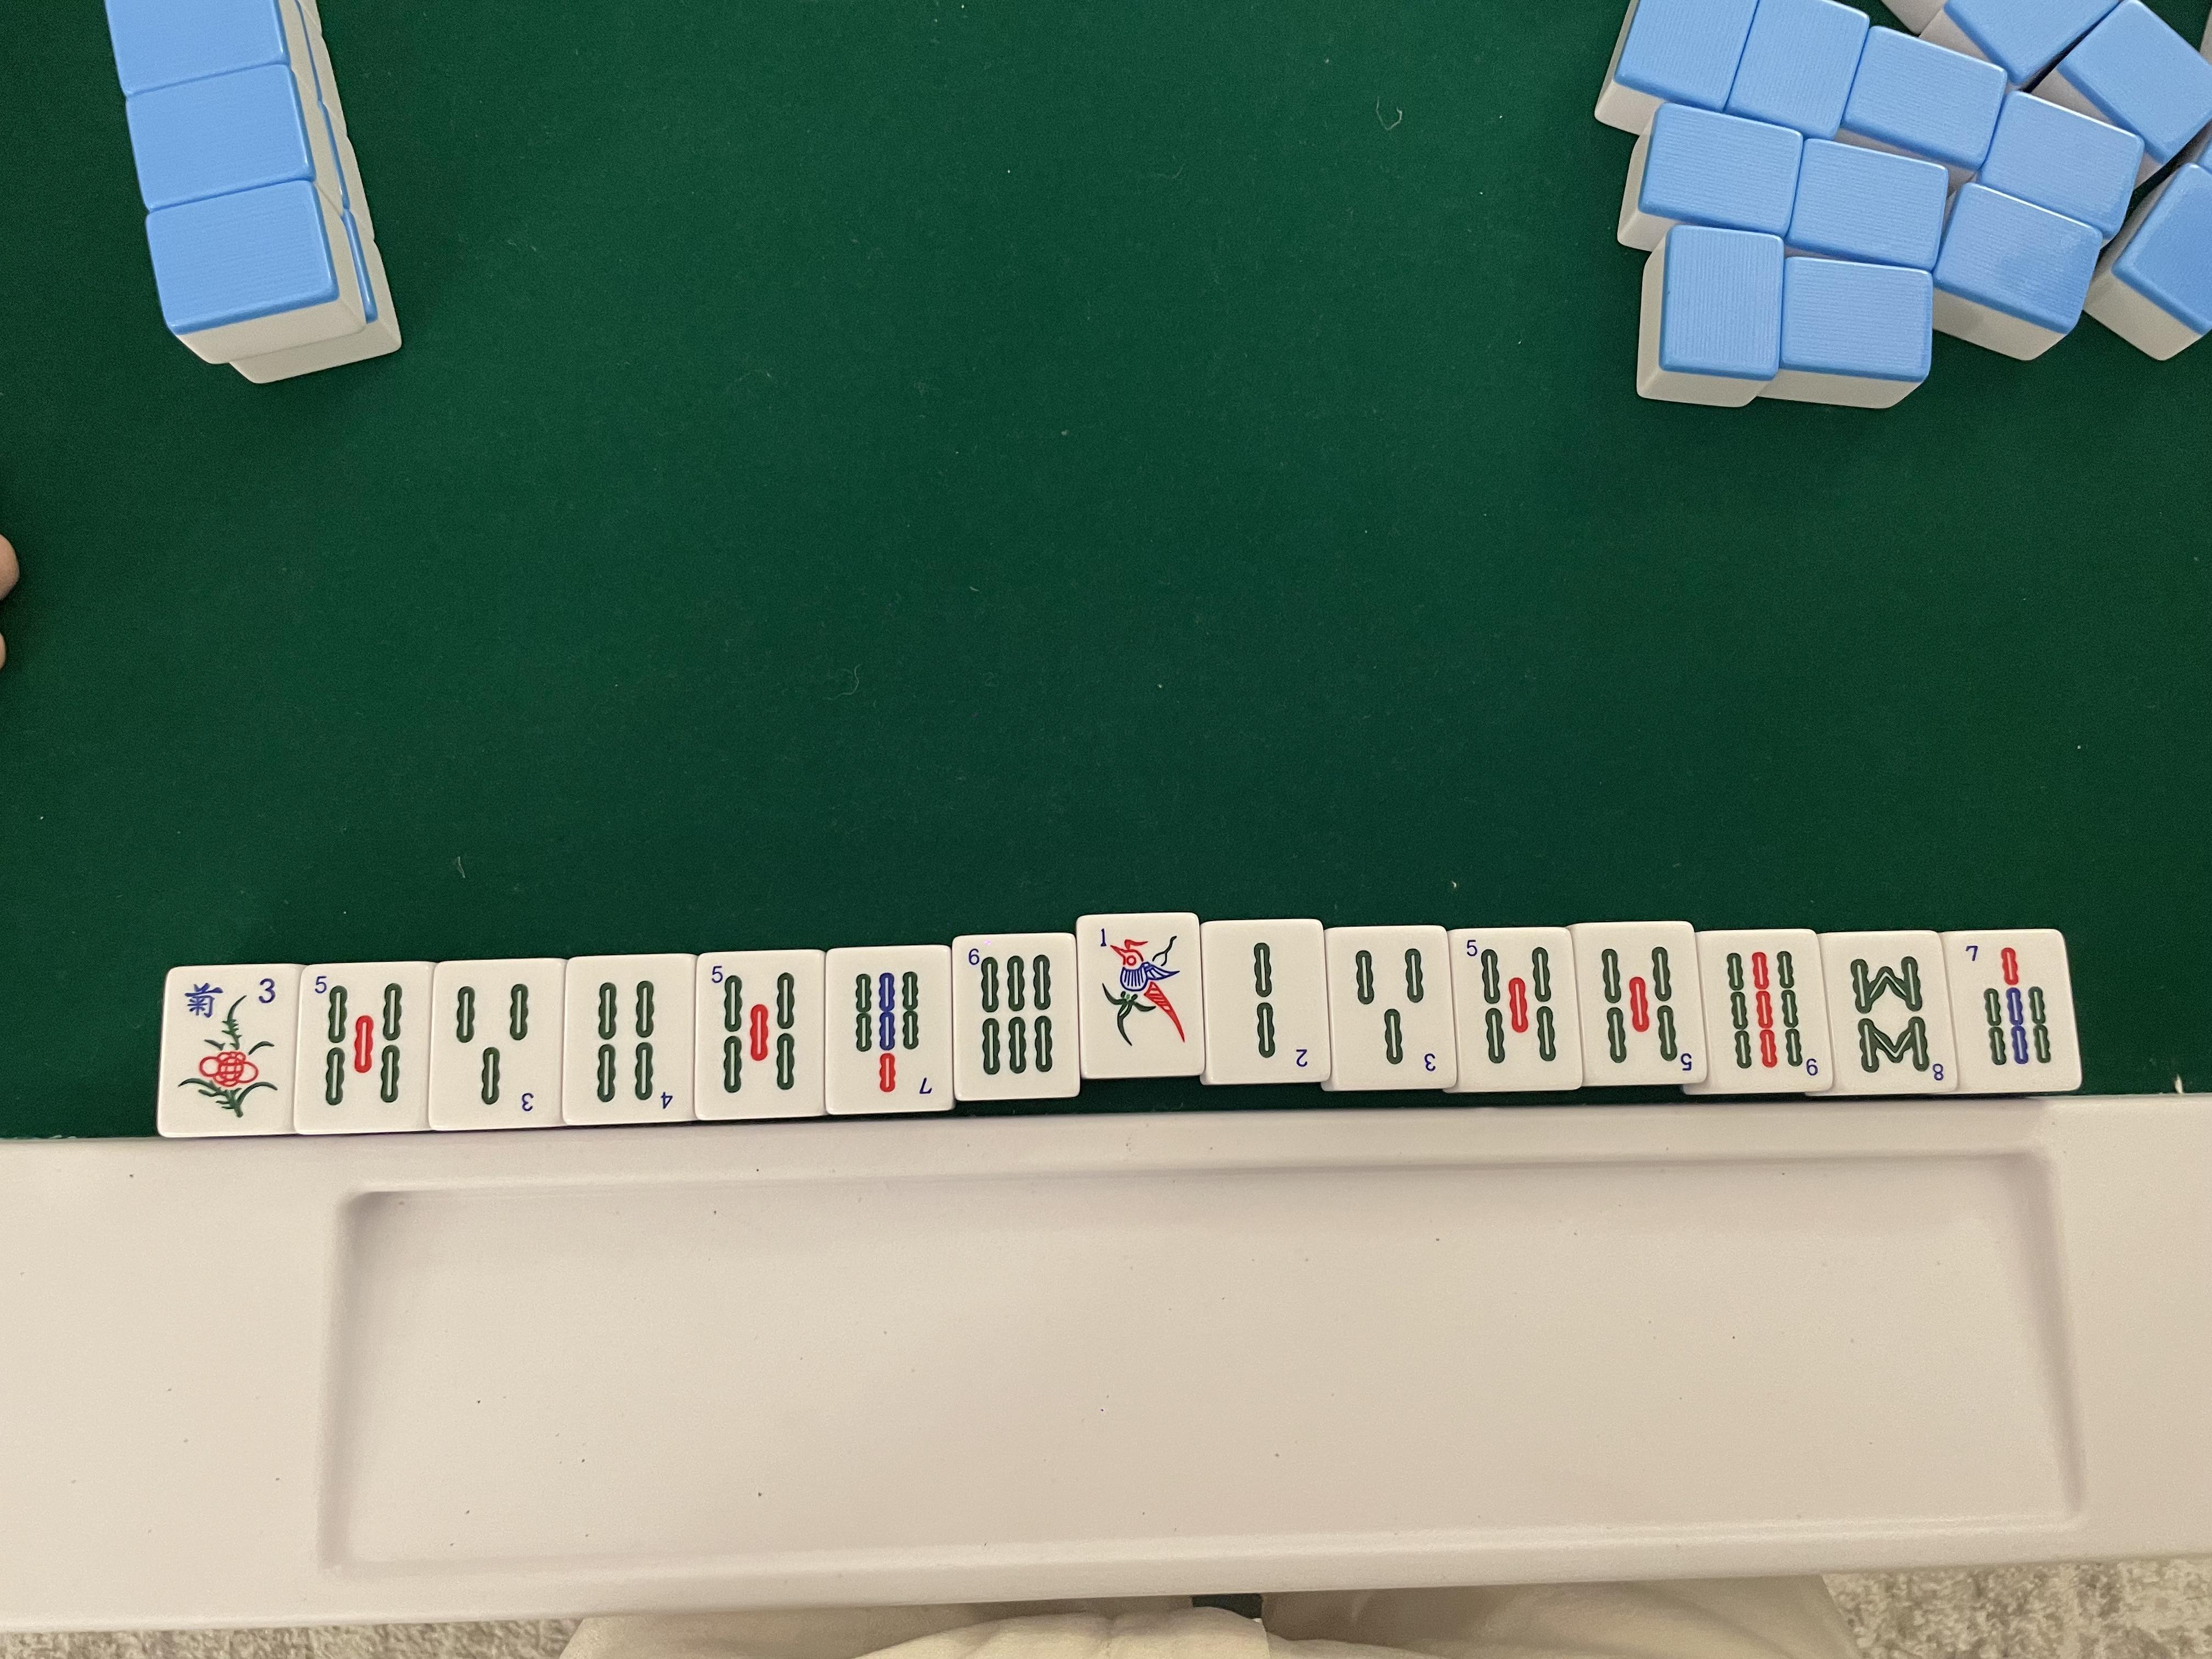bamboo-eight: (1838, 941, 1947, 1091)
bamboo-five: (307, 972, 425, 1124), (704, 960, 817, 1105), (1458, 934, 1569, 1077), (1590, 936, 1693, 1072)
bamboo-four: (582, 965, 688, 1119)
bamboo-nine: (1716, 938, 1822, 1079)
bamboo-one: (1089, 920, 1193, 1063)
bamboo-seven: (1961, 938, 2064, 1072), (843, 962, 944, 1096)
bamboo-six: (961, 941, 1071, 1089)
bamboo-three: (439, 971, 549, 1122), (1348, 936, 1440, 1077)
bamboo-two: (1224, 927, 1324, 1068)
flower-blue_three: (171, 969, 287, 1131)
